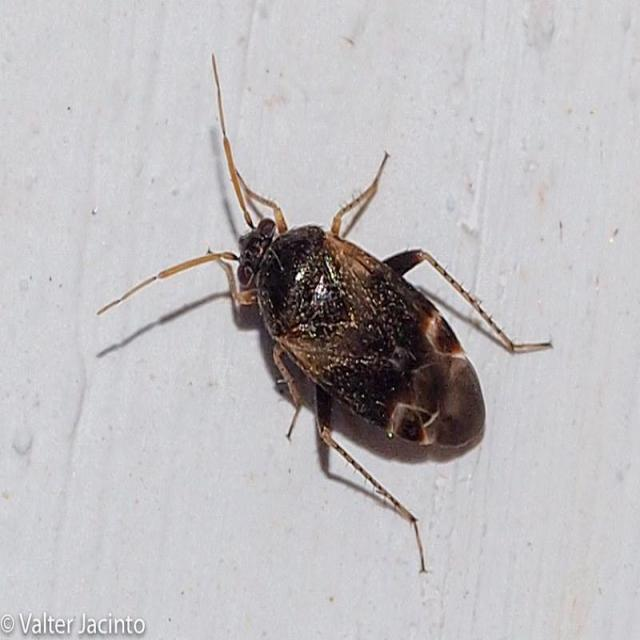Miridae-Adult-: (80, 46, 554, 576)
